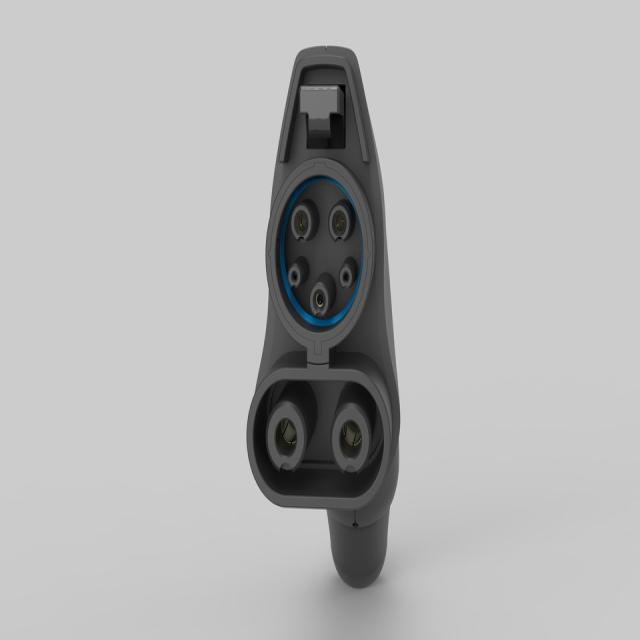CCS1: (239, 170, 401, 524)
